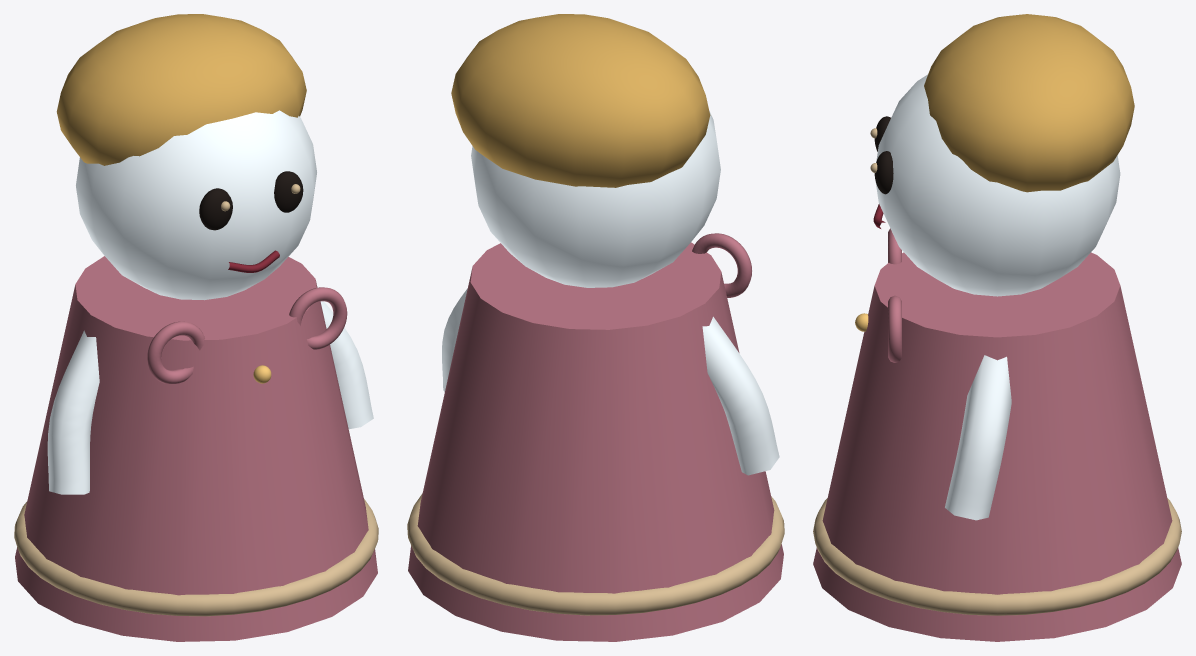
The model's file is mia-doll.glb.
3 renders of one model, left to right at view 1: azimuth 30°, elevation 25°; view 2: azimuth 150°, elevation 25°; view 3: azimuth 270°, elevation 25°, orthographic. The views are drawn at different scales.
Parts seen in each view (by area): view 1: Body_cake-rose, Body_porcelain, Body_hay-light, Body_ivory, Body_black; view 2: Body_cake-rose, Body_hay-light, Body_porcelain, Body_ivory; view 3: Body_cake-rose, Body_porcelain, Body_hay-light, Body_ivory, Body_black.
Part boxes in pixels (box(x1,y1,x2,y2)): Body_cake-rose: box(15, 256, 377, 641); Body_porcelain: box(47, 110, 373, 494); Body_hay-light: box(56, 14, 306, 165); Body_ivory: box(14, 184, 378, 616); Body_black: box(199, 171, 303, 230); Body_cake-rose: box(408, 233, 783, 641); Body_hay-light: box(451, 14, 710, 187); Body_porcelain: box(442, 111, 779, 475); Body_ivory: box(407, 493, 784, 615); Body_cake-rose: box(813, 228, 1181, 641); Body_porcelain: box(875, 74, 1120, 520); Body_hay-light: box(924, 14, 1134, 192); Body_ivory: box(813, 128, 1181, 615); Body_black: box(874, 116, 893, 194).
Size of the model in its own units: 0.36 by 0.573 by 0.36.
